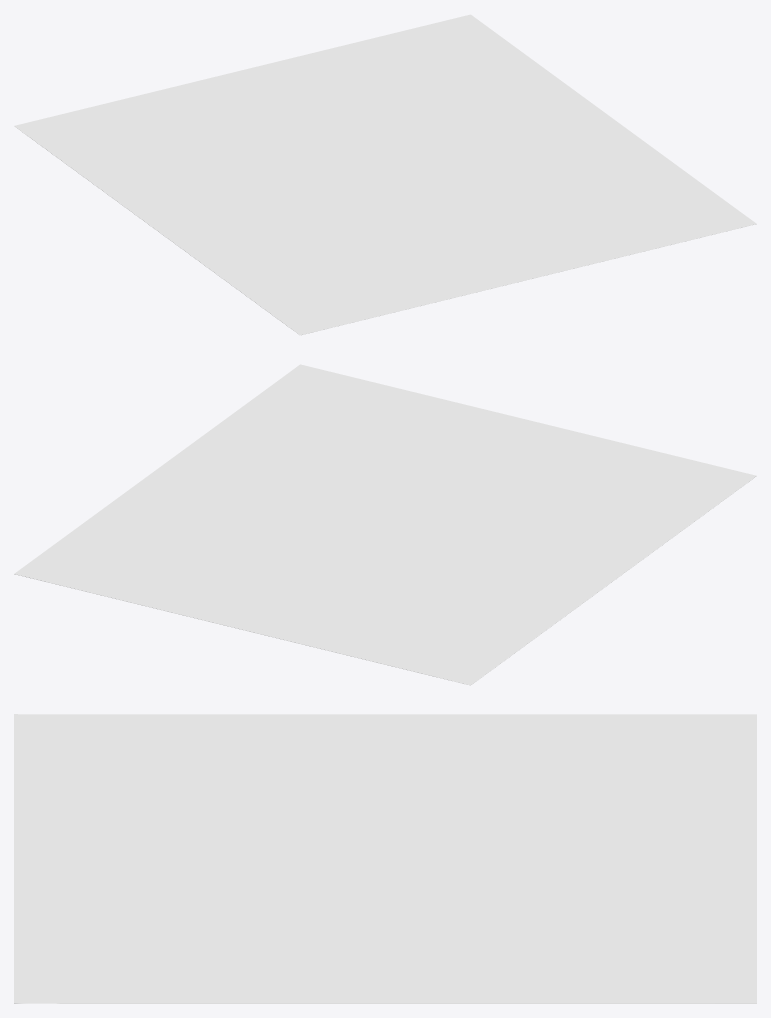
File: Level 163.fbx
3 views of the same model, one above another, from view 1: azimuth 30°, elevation 25°; view 2: azimuth 150°, elevation 25°; view 3: azimuth 270°, elevation 25° (orthographic). The views are drawn at different scales.
Parts seen in each view (by area): view 1: Blend; view 2: Blend; view 3: Blend.
Boxes of the visible parts, x1,y1,x2,y2 form: Blend: (14,14,756,335); Blend: (14,364,756,685); Blend: (14,714,756,1003).
Size of what is drawn, in the model's own units: 484 by 0.3077 by 526.
